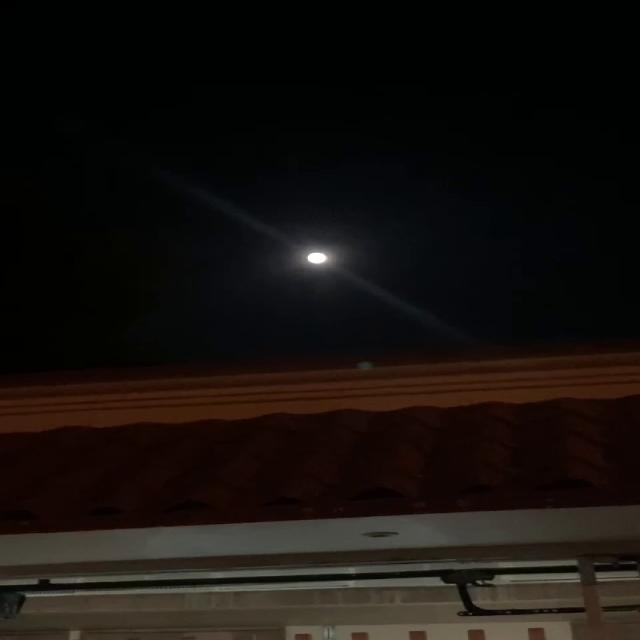moon: (295, 250, 322, 265)
